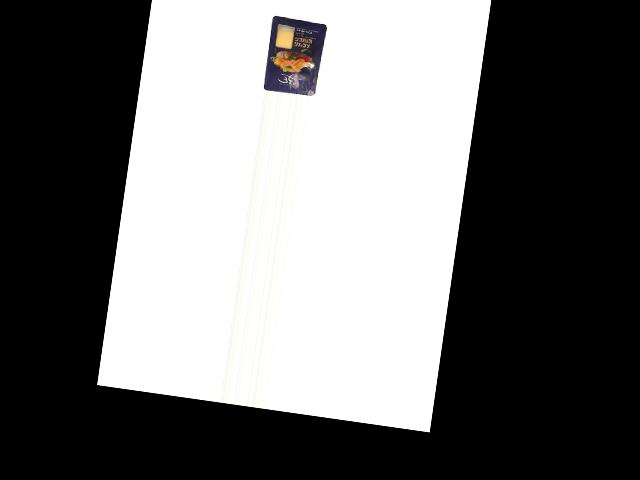cheese: (262, 15, 329, 98)
